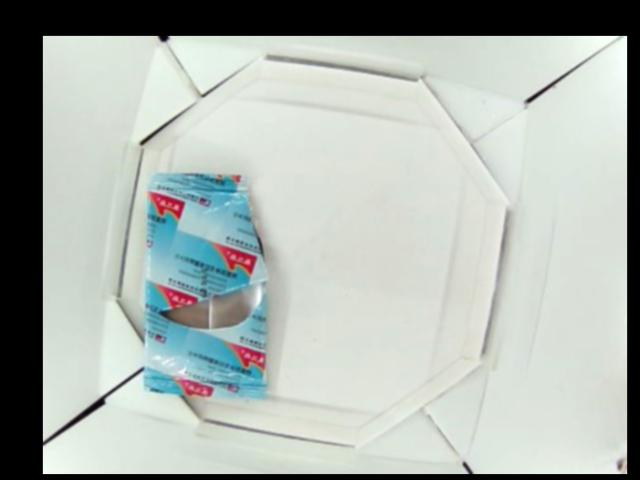Medicine: (145, 172, 267, 402)
